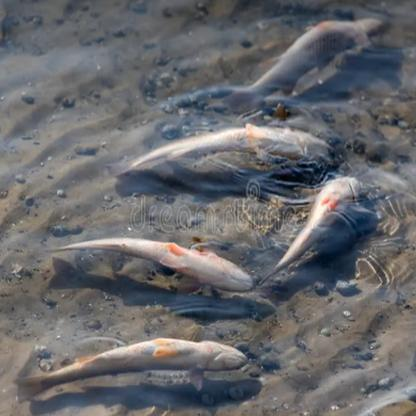deceased fish: (13, 337, 249, 402), (48, 230, 260, 291), (105, 129, 347, 181)
